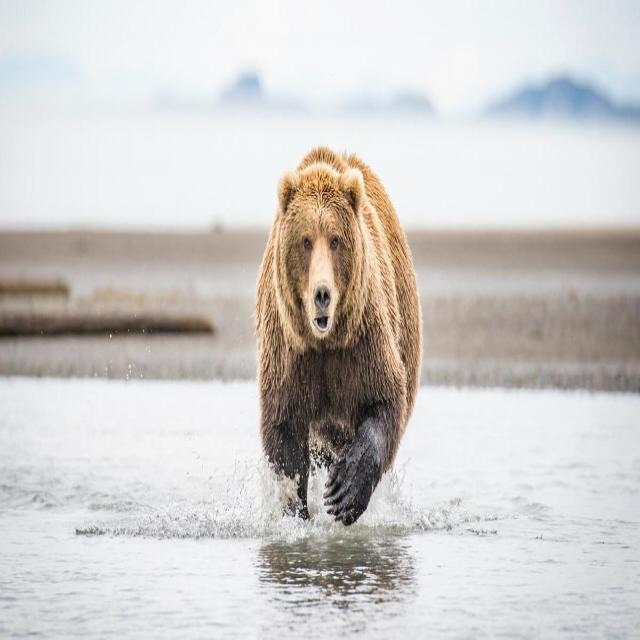Bear: (254, 145, 422, 528)
